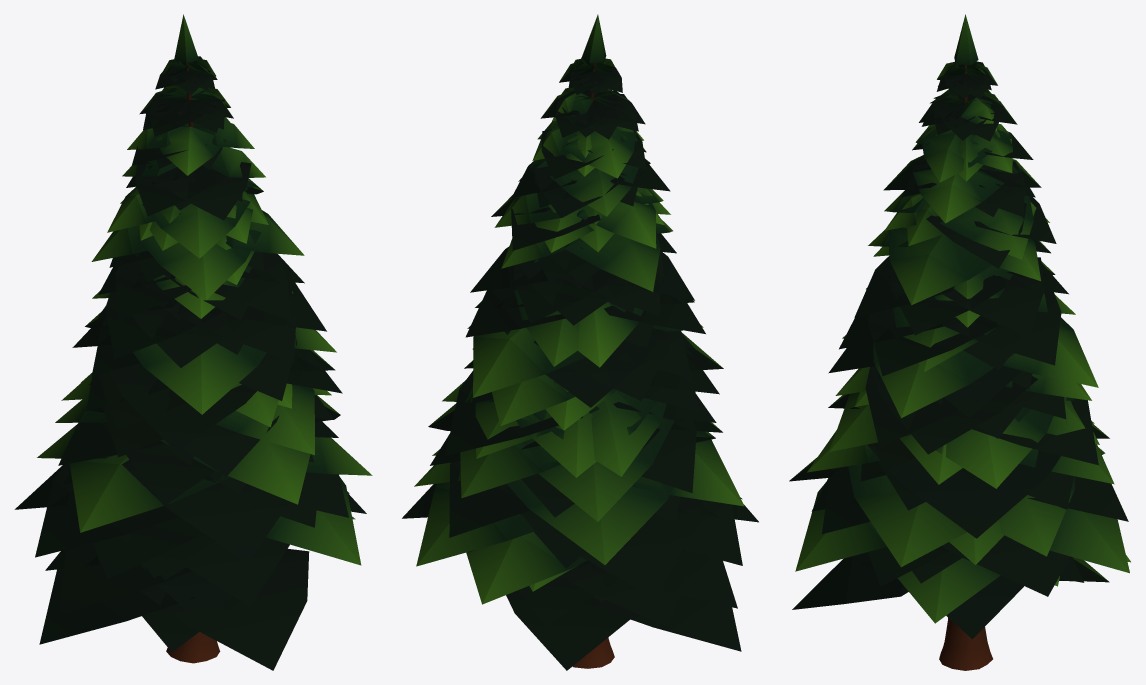
Rendered from douglas-fir-c.glb.
3 views of the same model, side by side, from view 1: azimuth 30°, elevation 25°; view 2: azimuth 150°, elevation 25°; view 3: azimuth 270°, elevation 25° (orthographic).
Parts seen in each view (by area): view 1: douglas-fir-c.Leaves, douglas-fir-c.Bark; view 2: douglas-fir-c.Leaves, douglas-fir-c.Bark; view 3: douglas-fir-c.Leaves, douglas-fir-c.Bark.
Boxes of the visible parts, <box> form: douglas-fir-c.Leaves: <box>14,14,372,670</box>; douglas-fir-c.Bark: <box>166,63,220,663</box>; douglas-fir-c.Leaves: <box>402,14,758,670</box>; douglas-fir-c.Bark: <box>572,63,614,668</box>; douglas-fir-c.Leaves: <box>789,14,1130,639</box>; douglas-fir-c.Bark: <box>939,65,992,670</box>.
Bounding box in the file's own units: 7.08 × 14 × 6.8.
